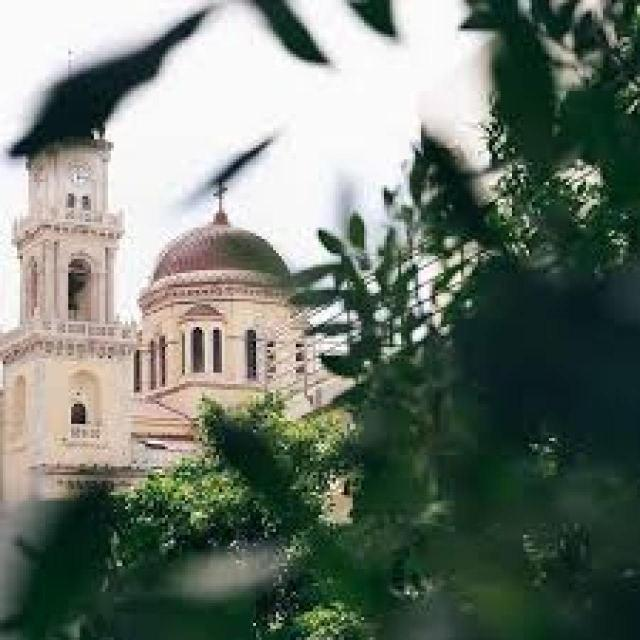Agios Minas: (2, 49, 343, 509)
